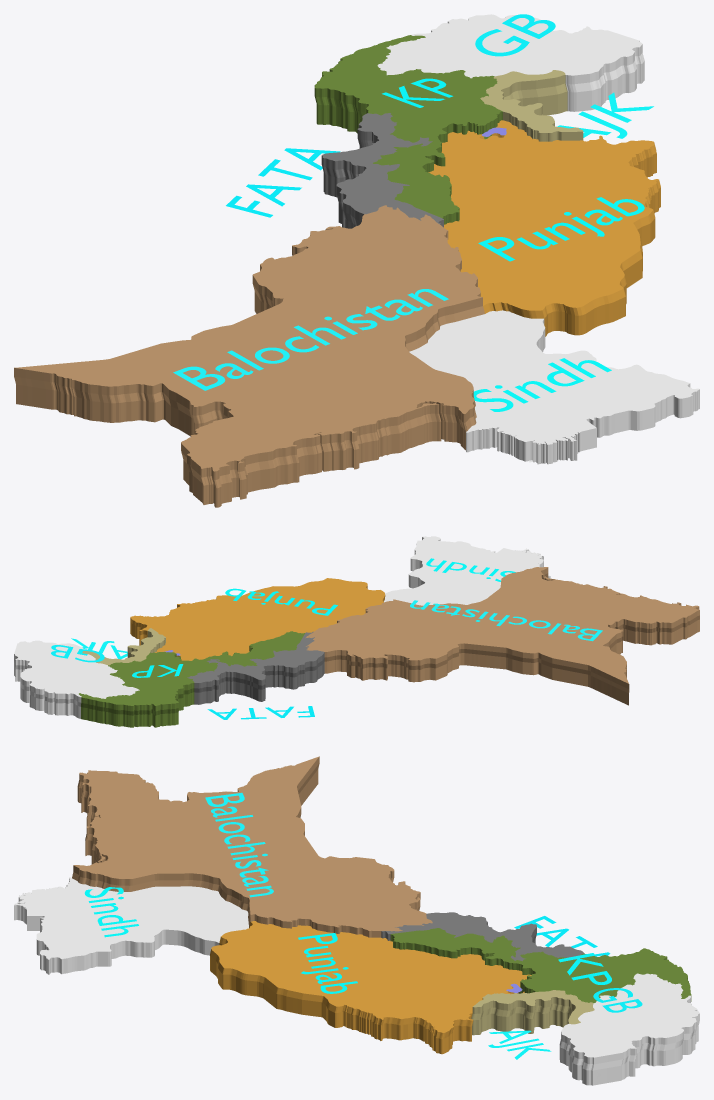
Rendered from pakistan_map_3d_model.glb.
The picture shows the model from 3 angles, top to bottom: view 1: azimuth 30°, elevation 25°; view 2: azimuth 150°, elevation 25°; view 3: azimuth 270°, elevation 25°; orthographic projection. The views are drawn at different scales.
Visible parts, largest first — view 1: PAK1108_0, PAK1113_5, PAK1114_6, PAK1123_7, PAK1111_3, PAK1112_4, PAK1109_1, Text_9, Text.002_11, Text.003_12, Text.001_10, Text.005_14 (+1 smaller); view 2: PAK1108_0, PAK1113_5, PAK1123_7, PAK1114_6, PAK1111_3, PAK1112_4, Text_9, PAK1109_1, Text.002_11, Text.003_12, Text.001_10, Text.005_14; view 3: PAK1108_0, PAK1113_5, PAK1114_6, PAK1111_3, PAK1123_7, PAK1109_1, PAK1112_4, Text_9, Text.002_11, Text.001_10, Text.003_12, Text.004_13 (+1 smaller).
Boxes of the visible parts, x1,y1,x2,y2 form: PAK1108_0: (14,205,484,507); PAK1113_5: (428,120,660,336); PAK1114_6: (409,310,699,464); PAK1123_7: (314,35,502,224); PAK1111_3: (377,14,644,111); PAK1112_4: (321,113,443,228); PAK1109_1: (480,70,583,141); Text_9: (173,289,448,390); Text.002_11: (478,197,644,261); Text.003_12: (226,148,340,217); Text.001_10: (473,358,611,411); Text.005_14: (475,14,555,56); PAK1108_0: (306,567,699,705); PAK1113_5: (130,578,385,660); PAK1123_7: (79,631,304,727); PAK1114_6: (384,536,550,605); PAK1111_3: (14,640,139,718); PAK1112_4: (187,631,324,704); Text_9: (410,600,602,641); PAK1109_1: (82,628,165,665); Text.002_11: (225,588,337,615); Text.003_12: (207,706,314,719); Text.001_10: (426,558,515,581); Text.005_14: (51,645,104,662); PAK1108_0: (72,756,432,937); PAK1113_5: (210,921,531,1054); PAK1114_6: (14,877,248,974); PAK1111_3: (559,973,699,1085); PAK1123_7: (390,928,691,1003); PAK1109_1: (471,990,594,1035); PAK1112_4: (381,912,584,961); Text_9: (205,792,273,897); Text.002_11: (298,933,357,993); Text.001_10: (84,887,138,937); Text.003_12: (514,916,610,956); Text.004_13: (558,953,611,984).
Size of what is drawn, in the model's own units: 12.82 by 0.9301 by 12.31.
Materials: 15 (7 with a texture image).
